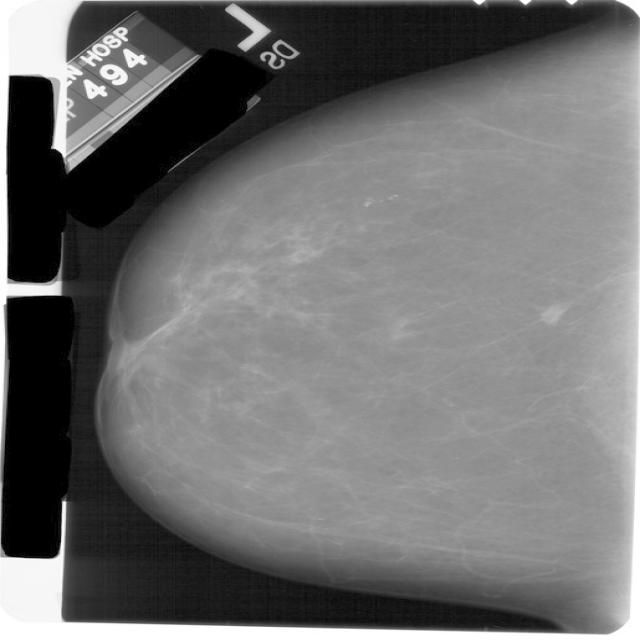tumour: (534, 303, 567, 326)
